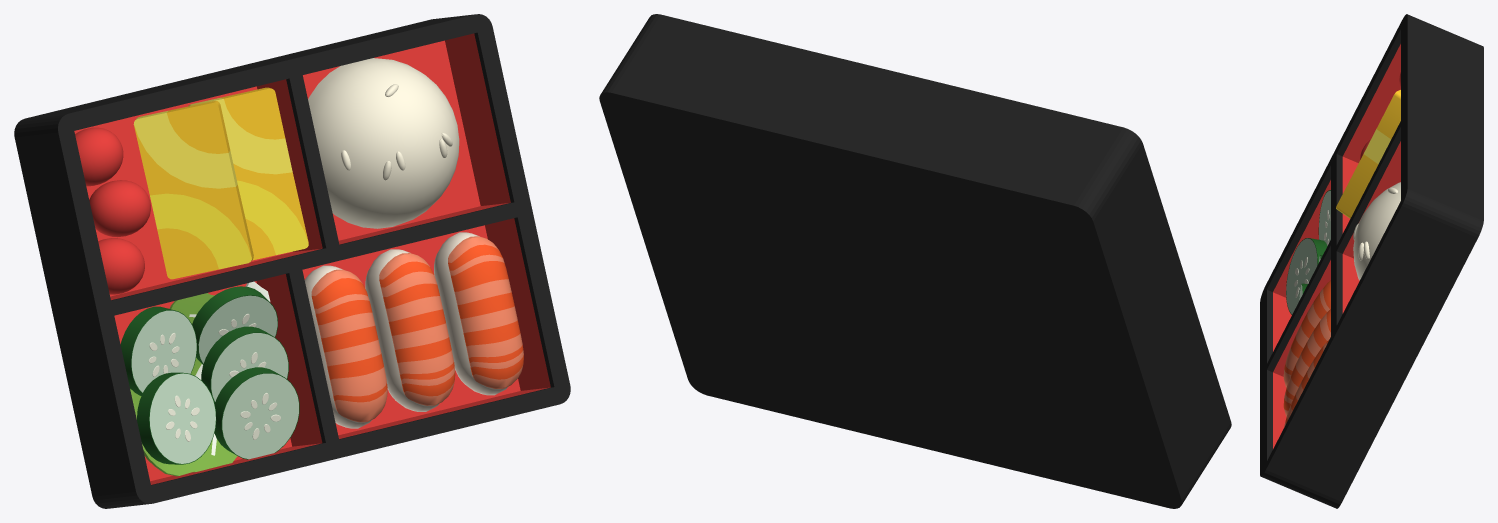
Rendered from bento_box.glb.
The picture shows the model from 3 angles, left to right: view 1: azimuth 30°, elevation 25°; view 2: azimuth 150°, elevation 25°; view 3: azimuth 270°, elevation 25°; orthographic projection. The views are drawn at different scales.
Visible parts, largest first — view 1: Cube.417; view 2: Cube.417; view 3: Cube.417.
Boxes of the visible parts, x1=… form: Cube.417: x1=14, y1=14, x2=570, y2=508; Cube.417: x1=599, y1=14, x2=1231, y2=508; Cube.417: x1=1260, y1=14, x2=1483, y2=508.
Bounding box in the file's own units: 2.15 × 1.73 × 1.1.
Materials: 1 (1 with a texture image).
